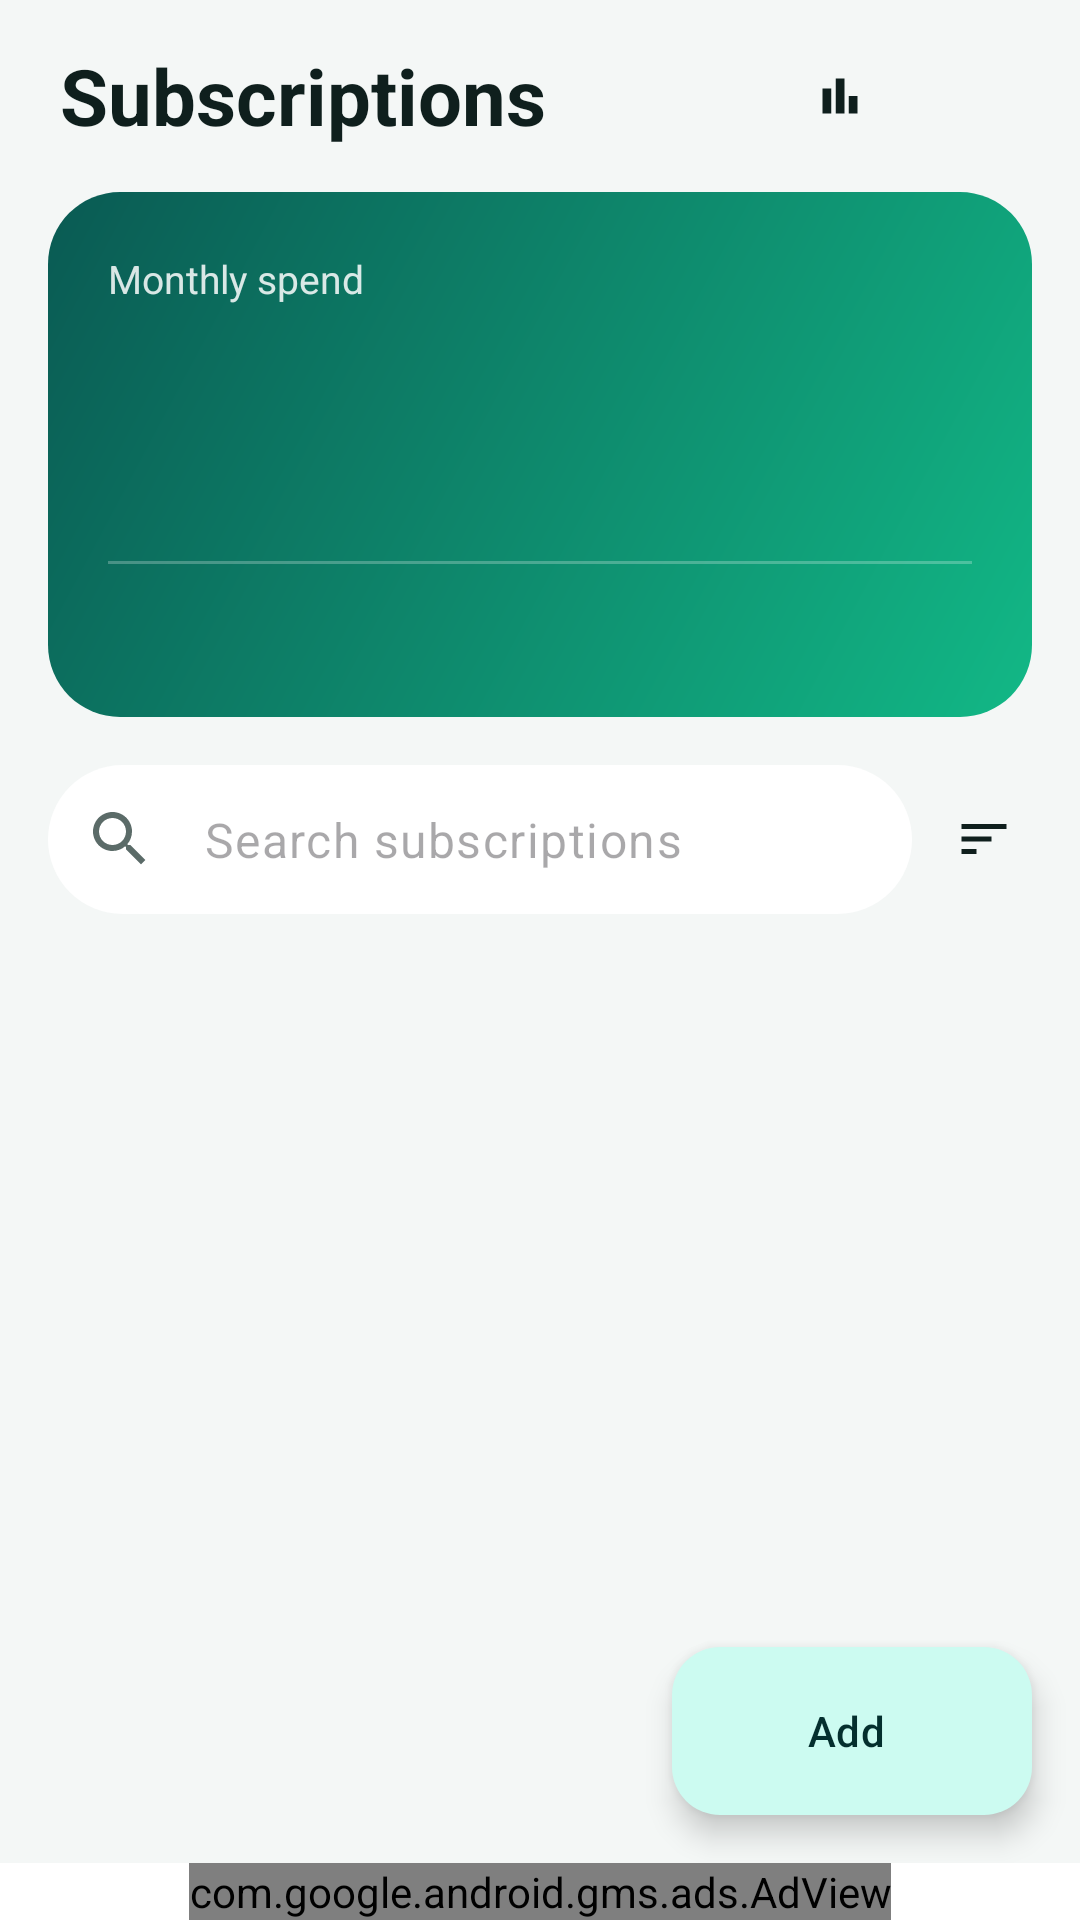

Screen size 1080 x 1920. Icon name, then its center in pixels as [x,y]:
Sort: [984,839]
Stats: [840,96]
